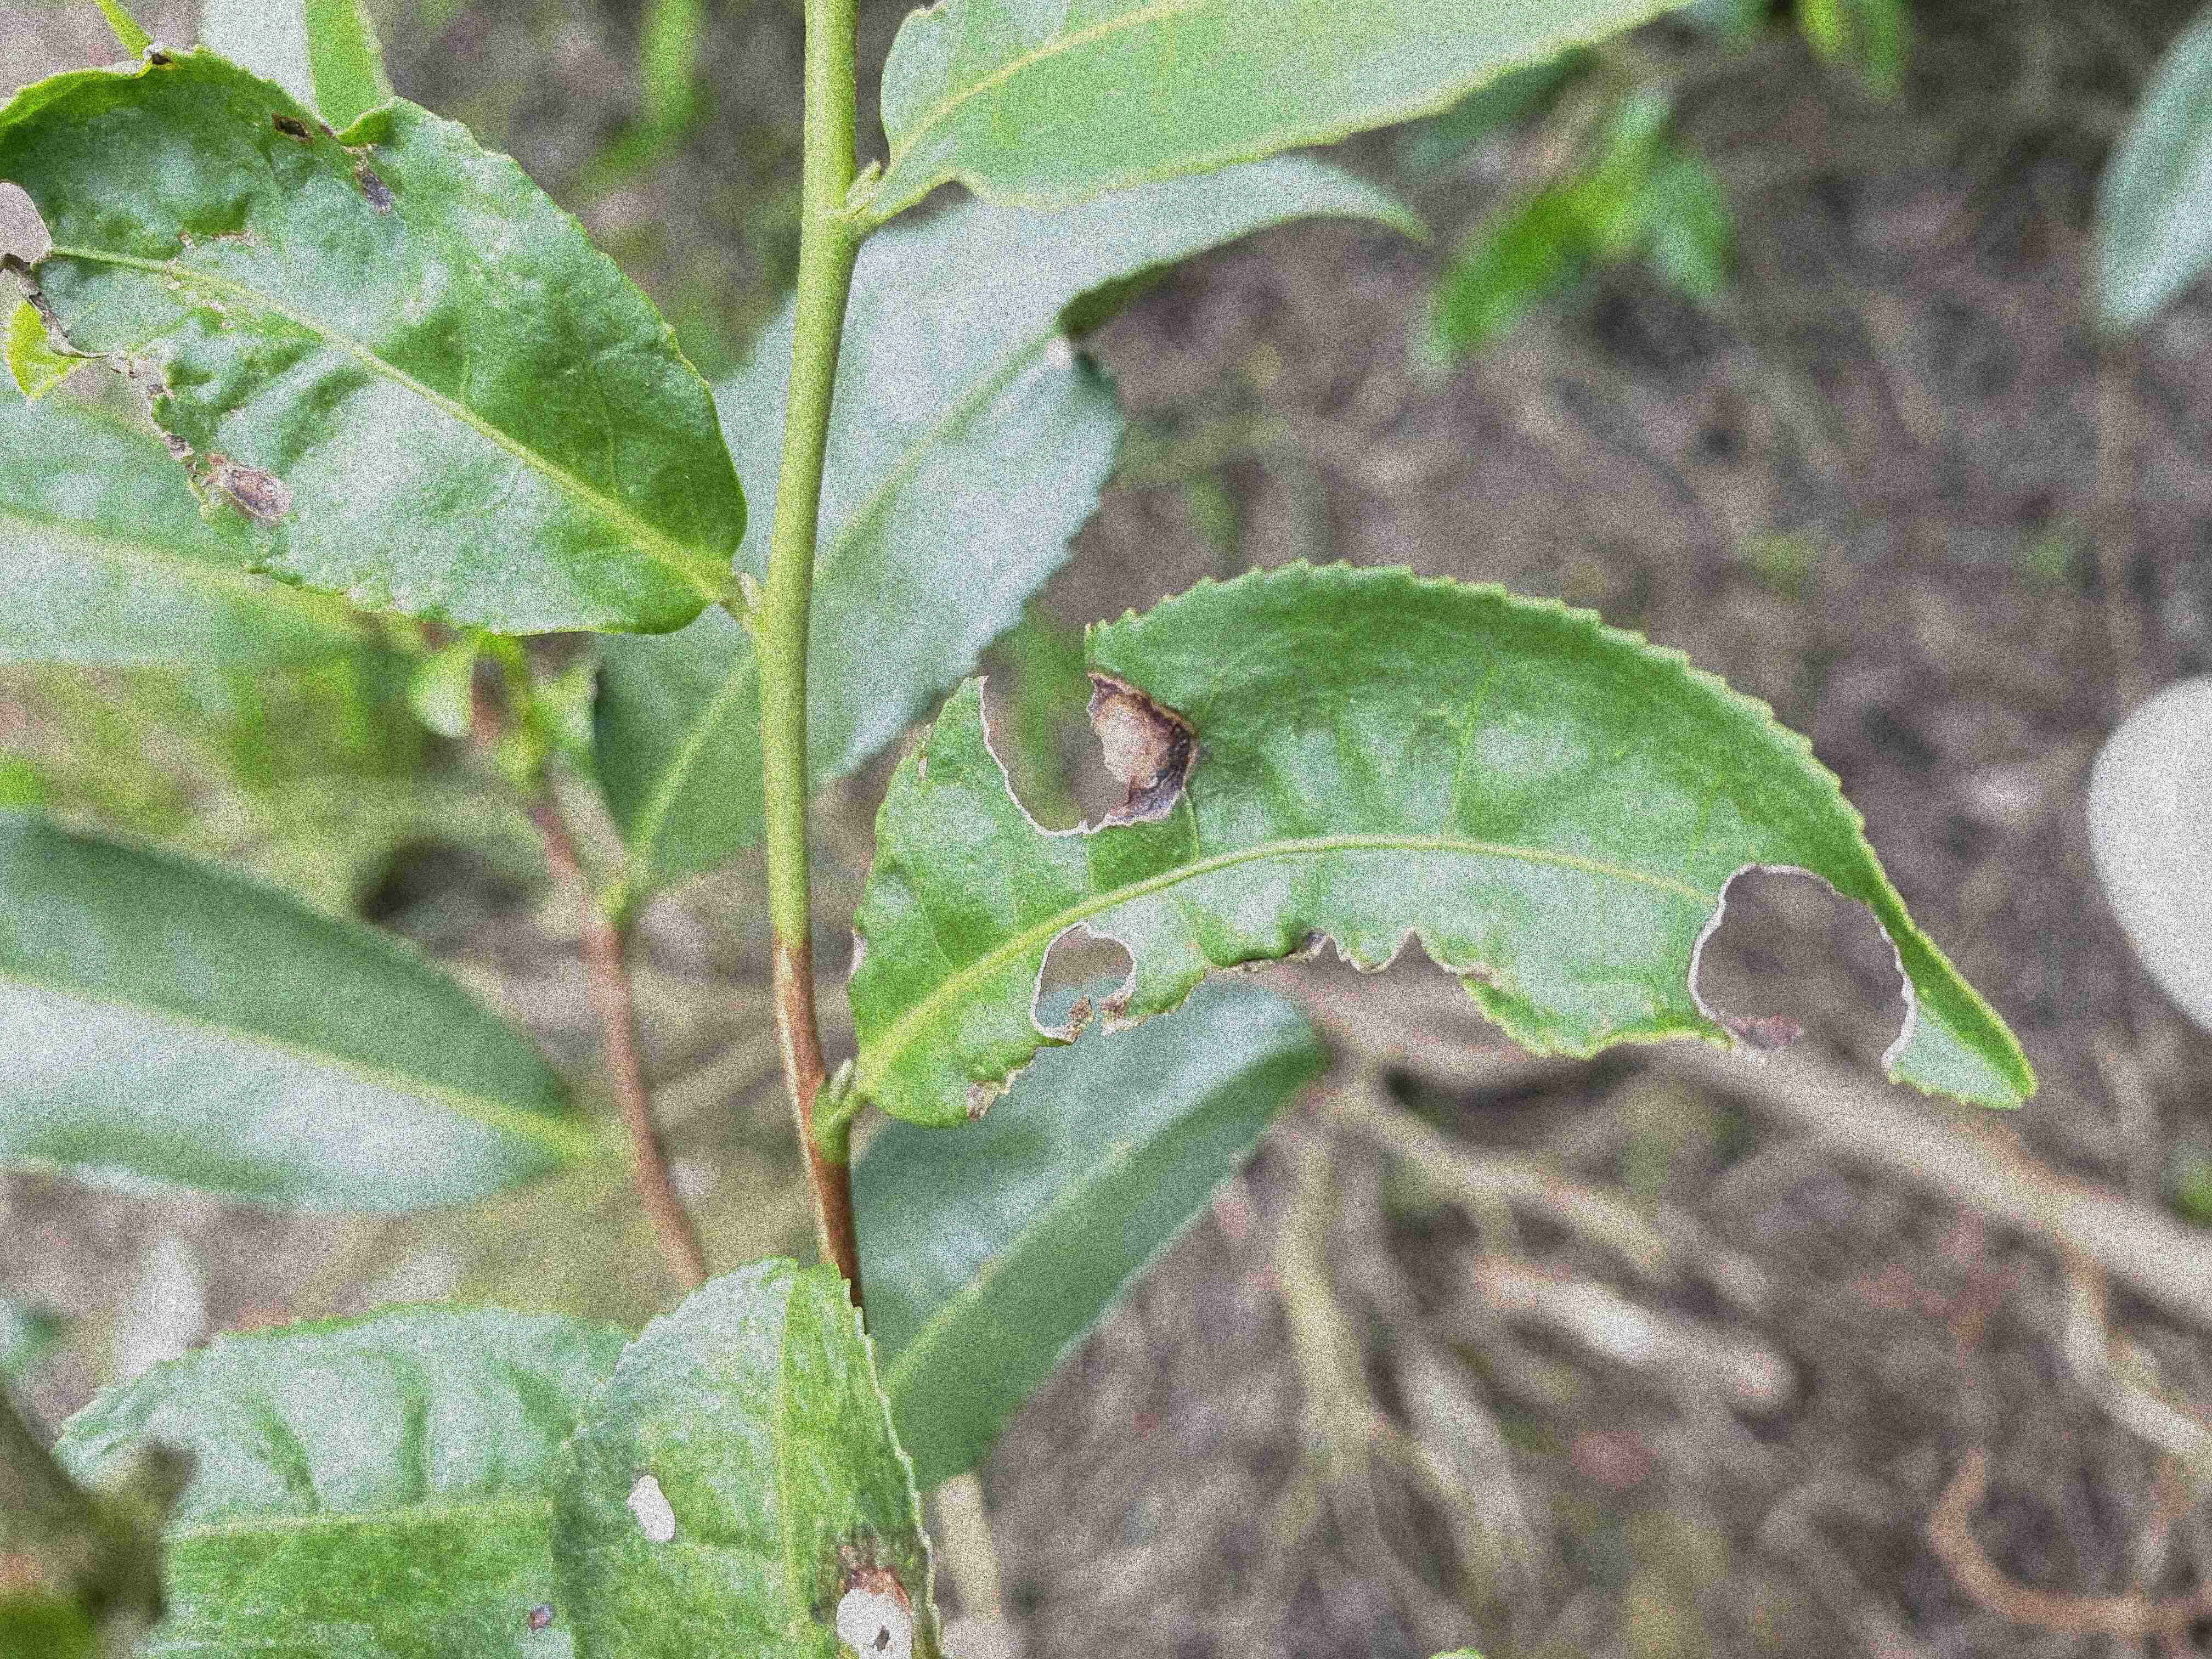chihuo_high: (846, 554, 2038, 1126)
tanju_high: (3, 40, 747, 638), (547, 1256, 951, 1656)
